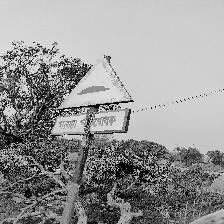Speed-breaker: (51, 55, 134, 137)
